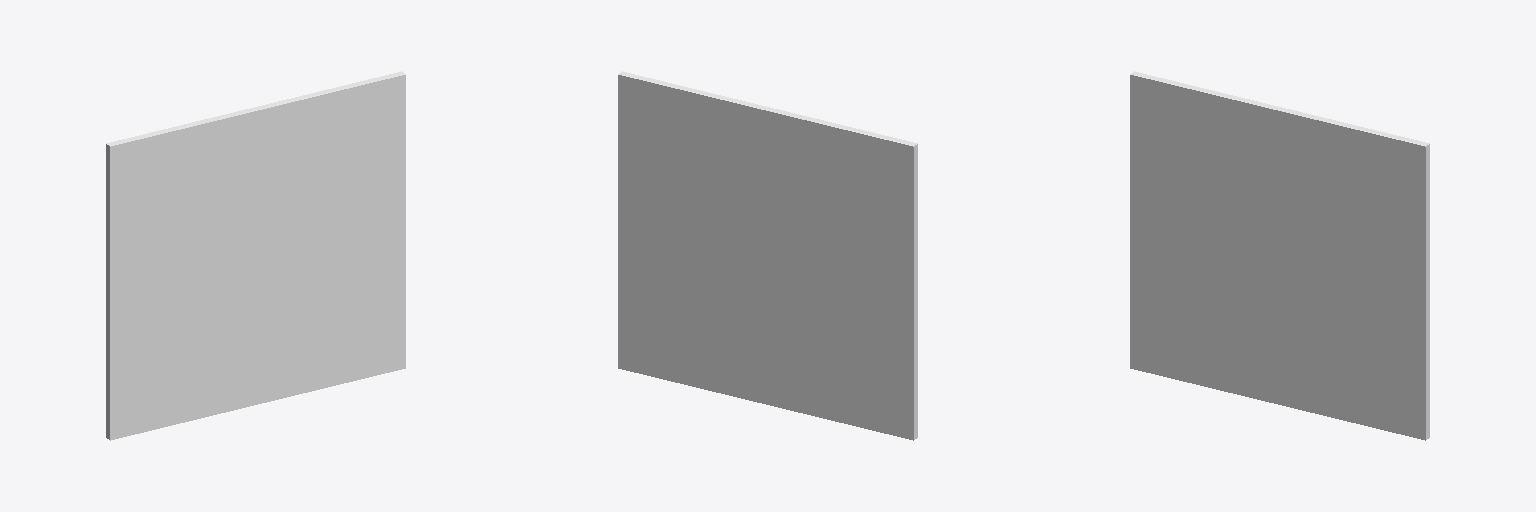
File: Bathroom-10.obj
3 views of the same model, side by side, from view 1: azimuth 30°, elevation 25°; view 2: azimuth 150°, elevation 25°; view 3: azimuth 330°, elevation 25° (orthographic).
Visible parts, largest first — view 1: object 1; view 2: object 1; view 3: object 1.
Part boxes in pixels (x1,y1,x2,y2): object 1: (106,71,405,440); object 1: (618,71,917,440); object 1: (1130,71,1429,440).
Size of the model in its own units: 4 by 3.8 by 0.1.